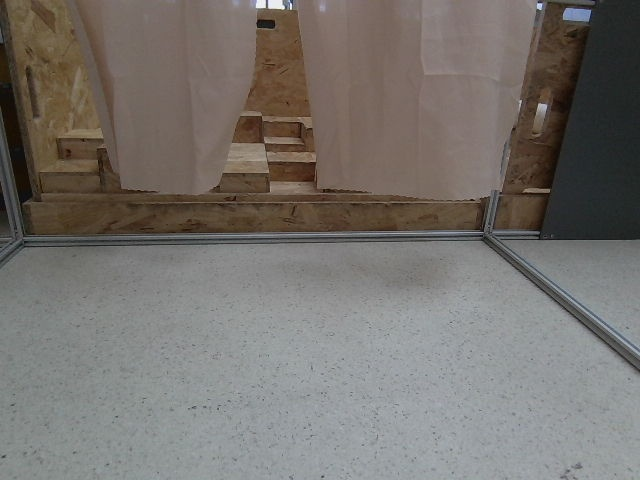curtain: (0, 0, 525, 216)
